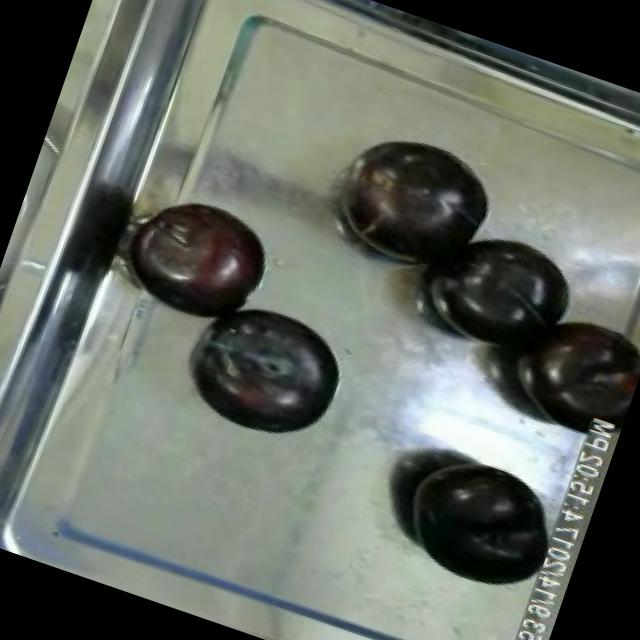Fruit: (382, 432, 576, 605), (322, 119, 514, 288), (180, 288, 357, 454), (123, 184, 284, 335)
